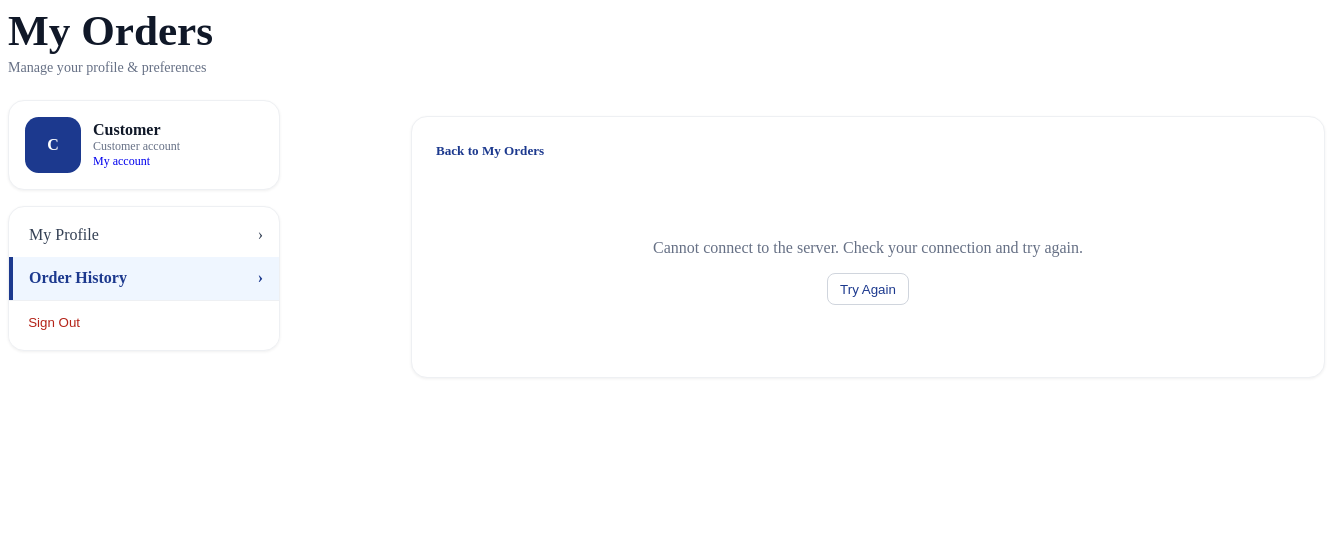
it: OrderDetailsPage › retries after an error
This screenshot has width=1342, height=560.
Check: the text "Cannot connect to the server" is shown, box [653,239,1083,256]
Click the button "Try Again": (868, 289) [827,273,909,305]
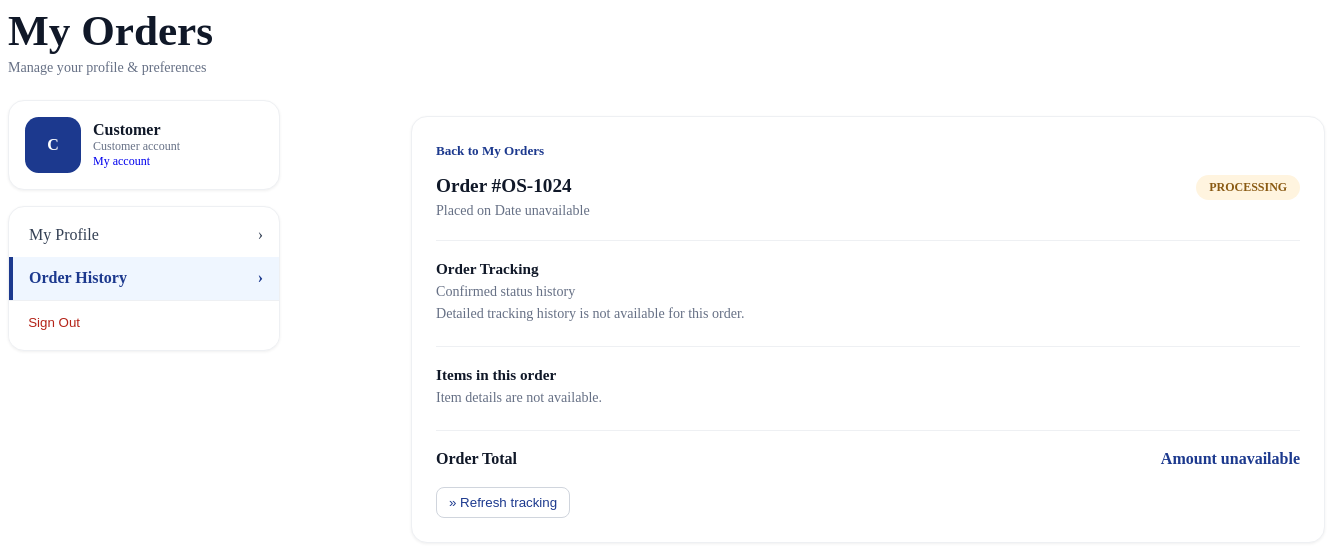
Check: the heading "Order #OS-1024" is shown, box [436,175,590,197]
